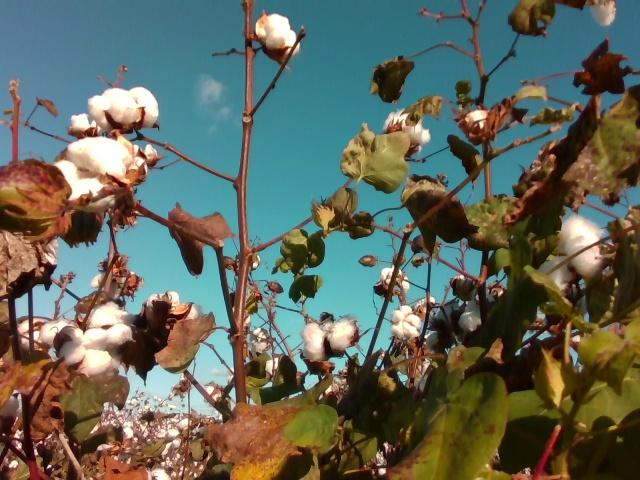cotton_ready: (56, 137, 134, 216), (530, 216, 606, 291), (86, 87, 161, 128), (59, 326, 114, 379), (89, 300, 140, 354), (299, 321, 360, 361), (251, 14, 301, 56)
